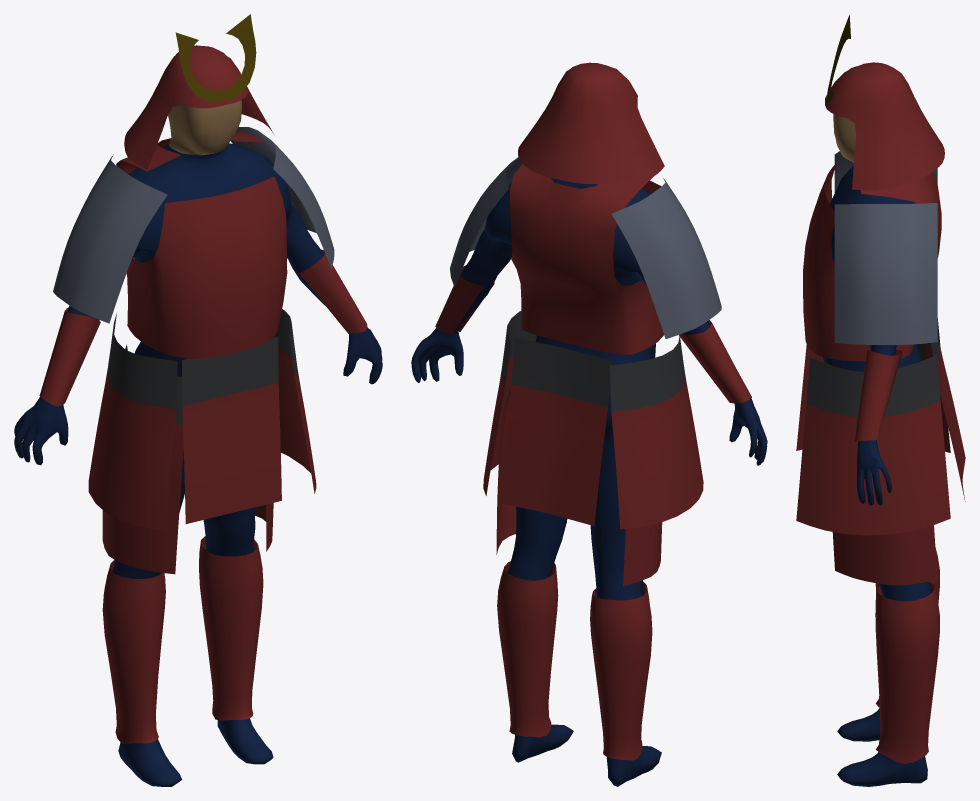
Rendered from samurai.dae.
3 renders of one model, left to right at view 1: azimuth 30°, elevation 25°; view 2: azimuth 150°, elevation 25°; view 3: azimuth 270°, elevation 25°, orthographic. The views are drawn at different scales.
Parts seen in each view (by area): view 1: pCube3; view 2: pCube3; view 3: pCube3.
Part boxes in pixels (x1,y1,x2,y2): pCube3: (14, 14, 382, 786); pCube3: (411, 62, 767, 786); pCube3: (796, 15, 965, 786).
Size of the model in its own units: 3.91 by 7.68 by 1.62.
